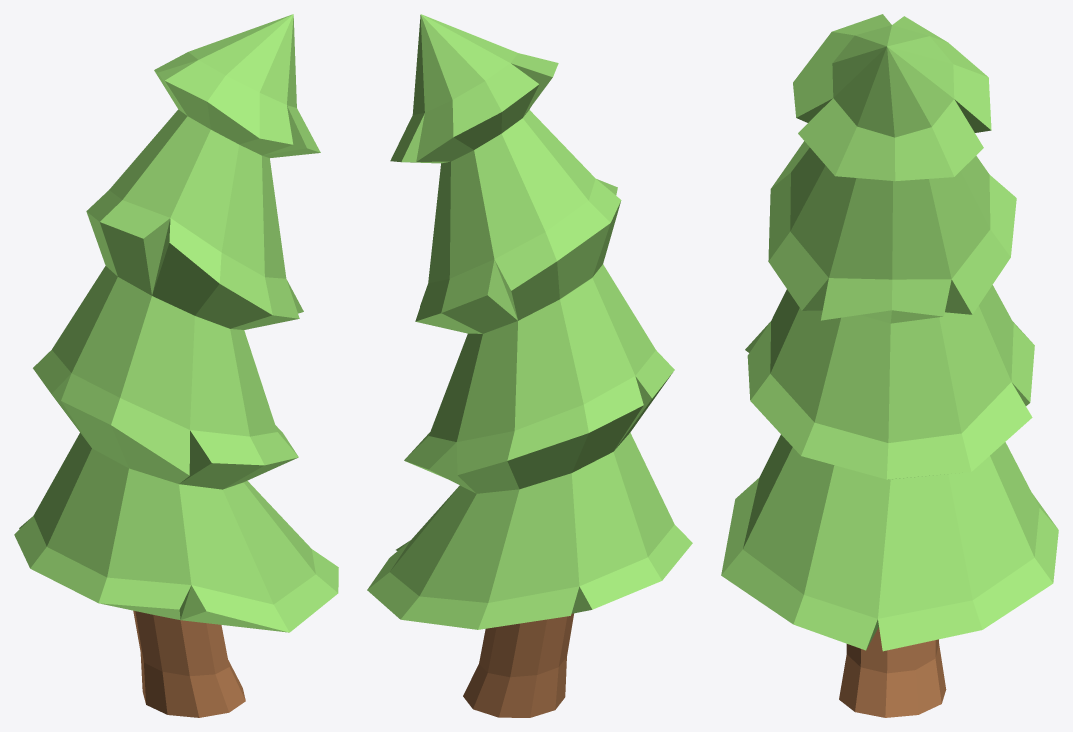
Rendered from Tree3.1Rot.fbx.
3 views of the same model, side by side, from view 1: azimuth 30°, elevation 25°; view 2: azimuth 150°, elevation 25°; view 3: azimuth 270°, elevation 25° (orthographic). The views are drawn at different scales.
Parts seen in each view (by area): view 1: Tree3.1Rot; view 2: Tree3.1Rot; view 3: Tree3.1Rot.
Boxes of the visible parts, x1,y1,x2,y2 form: Tree3.1Rot: (14,14,338,717); Tree3.1Rot: (367,14,692,717); Tree3.1Rot: (721,14,1058,717).
Bounding box in the file's own units: 275 × 603 × 264.
